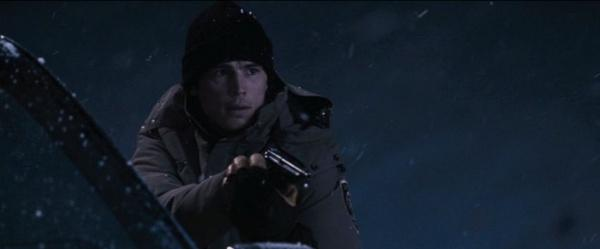Gun: (260, 147, 311, 193)
